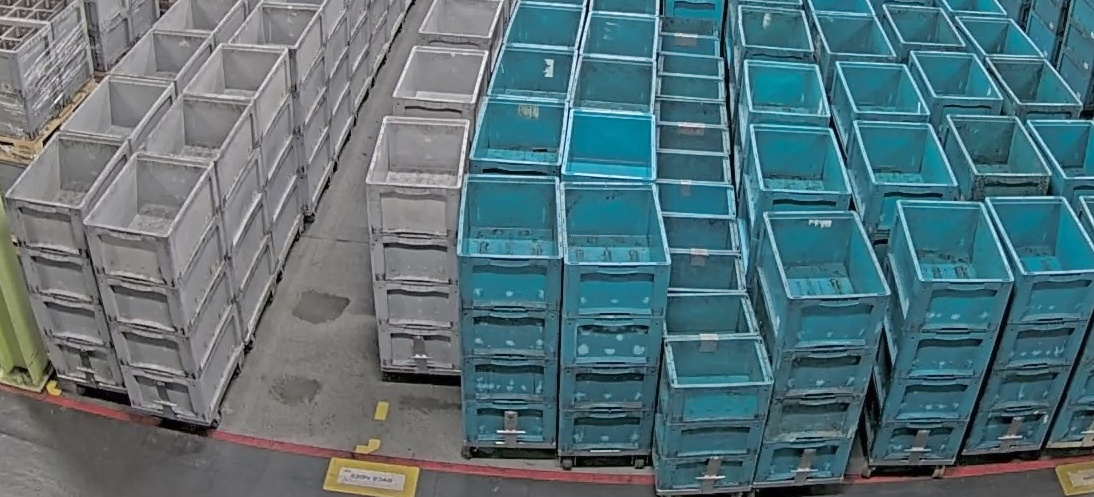4G: (84, 154, 243, 425), (4, 131, 133, 393), (365, 119, 470, 371)
B4: (864, 192, 1014, 467), (752, 211, 891, 488), (961, 197, 1093, 456), (557, 182, 671, 456), (457, 173, 562, 444)
B8: (657, 291, 773, 492)
